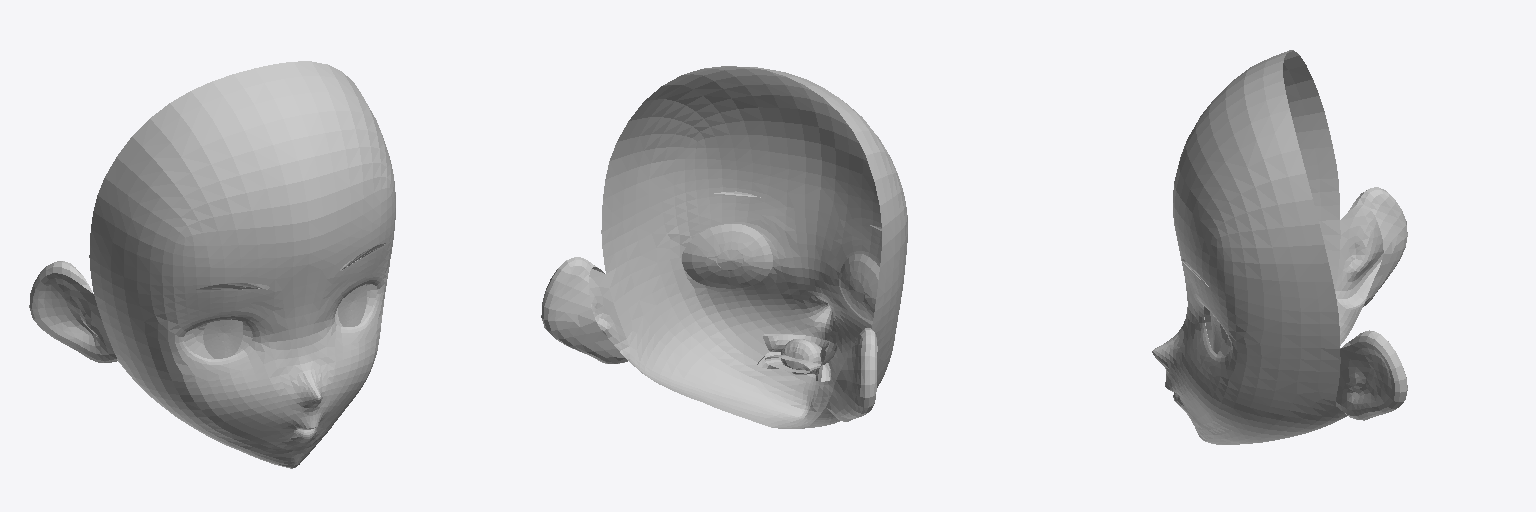
Rendered from mouthPucker.obj.
3 renders of one model, left to right at view 1: azimuth 30°, elevation 25°; view 2: azimuth 150°, elevation 25°; view 3: azimuth 270°, elevation 25°, orthographic.
Parts seen in each view (by area): view 1: Face; view 2: Face; view 3: Face.
Part boxes in pixels (left/top/right/bottom): Face: left=29, top=61, right=395, bottom=468; Face: left=541, top=66, right=907, bottom=428; Face: left=1152, top=50, right=1407, bottom=444.
Size of the model in its own units: 0.2176 by 0.2333 by 0.1449.